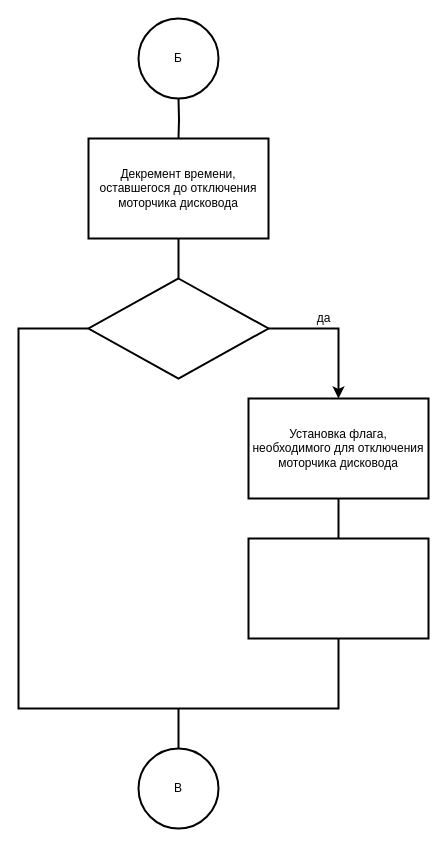
Some shapes in this 446 by 846 pixel diagram are drawn without their labels. Each missing label, with the centre of its shape:
"В порт - команду отключения моторчика дисковода" goes at pixel 338 588.
"Счетчик таймера == 0" goes at pixel 178 328.
